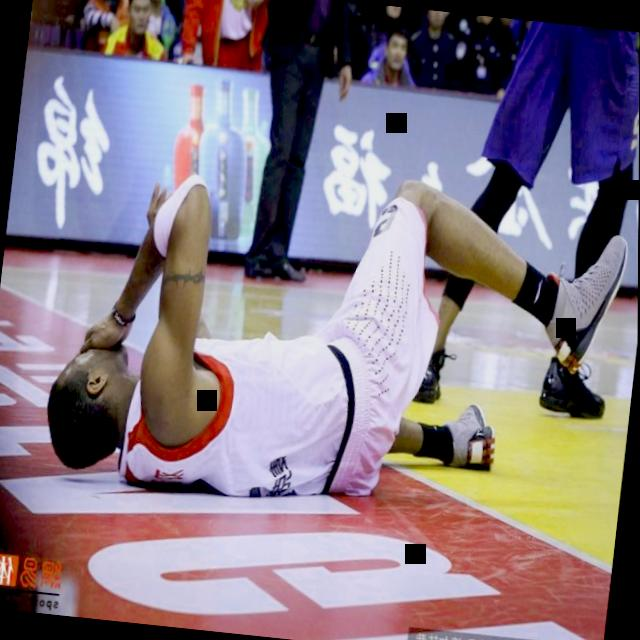Fall-Detected: (32, 131, 611, 527)
